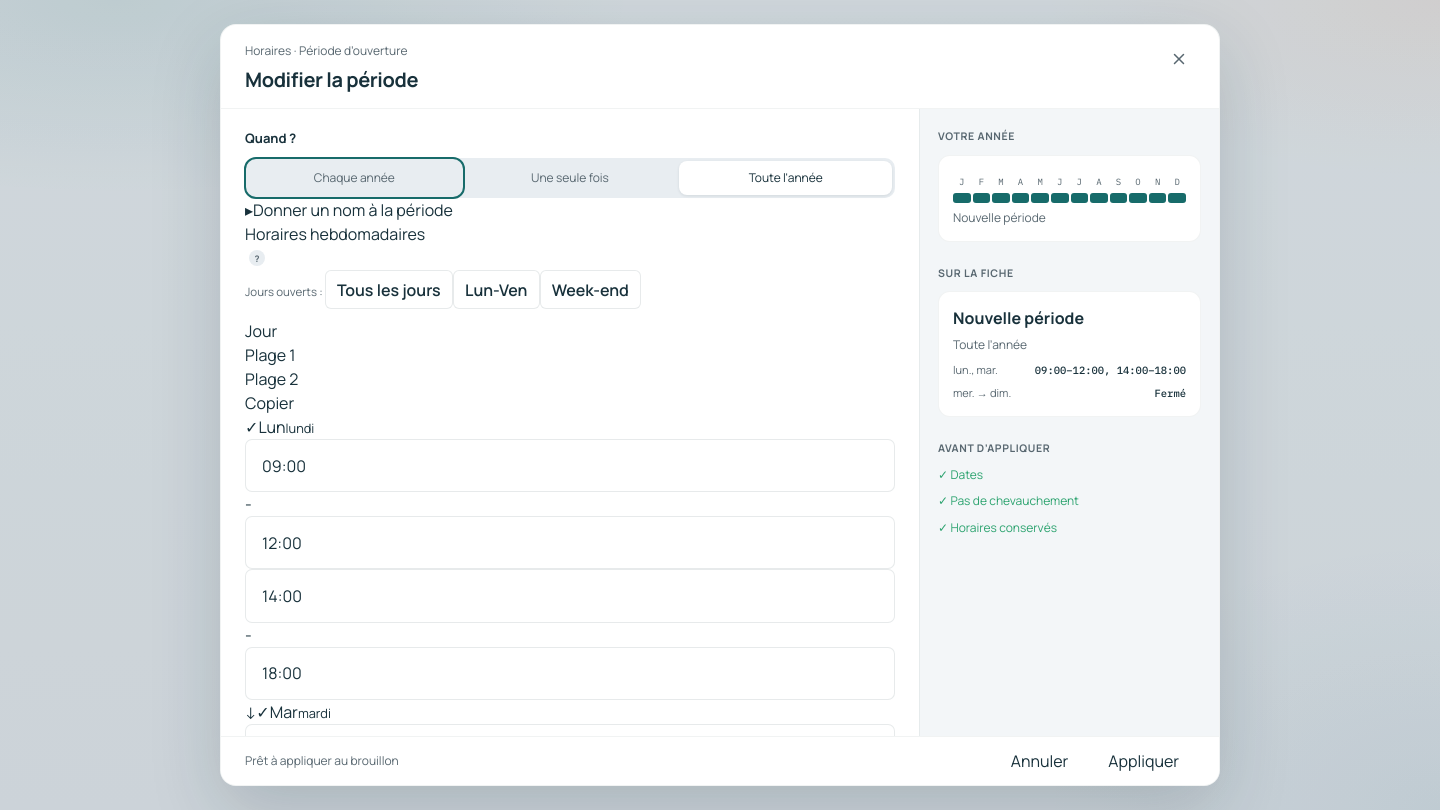
Test: public-card preview follows the actual days and time frames as the draft changes
This screenshot has width=1440, height=810.
expect the text "lun., mar." is shown: met, box [953,362,998,377]
expect the text "09:00–12:00, 14:00–18:00" is shown: met, box [1027,363,1186,379]
Replace the text in the field named "lundi · Plage 1 · début" with "8h30" at [570, 466], box [245,439,895,492]
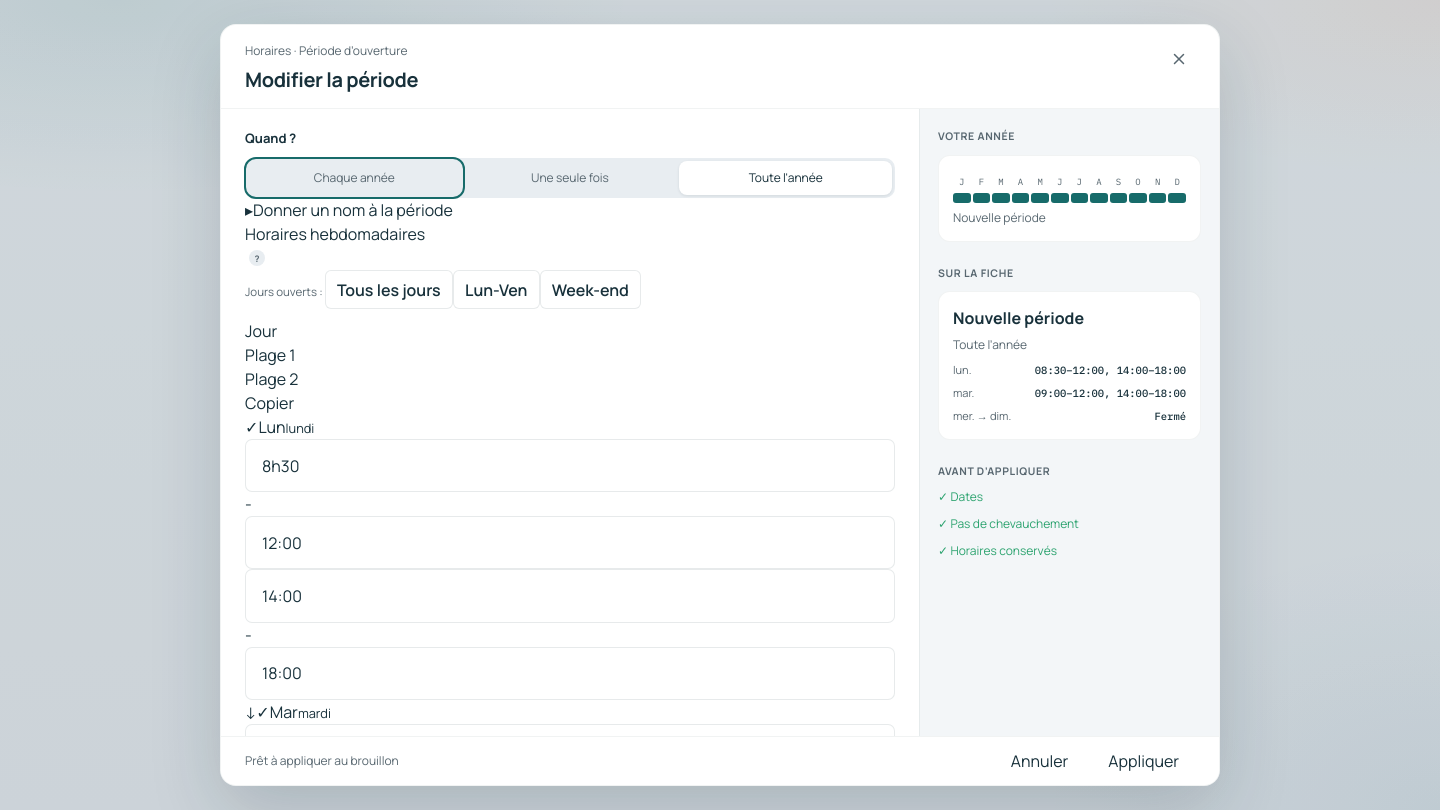
expect the text "lun." is shown: met, box [953,362,971,377]
expect the text "08:30–12:00, 14:00–18:00" is shown: met, box [1027,363,1186,379]
